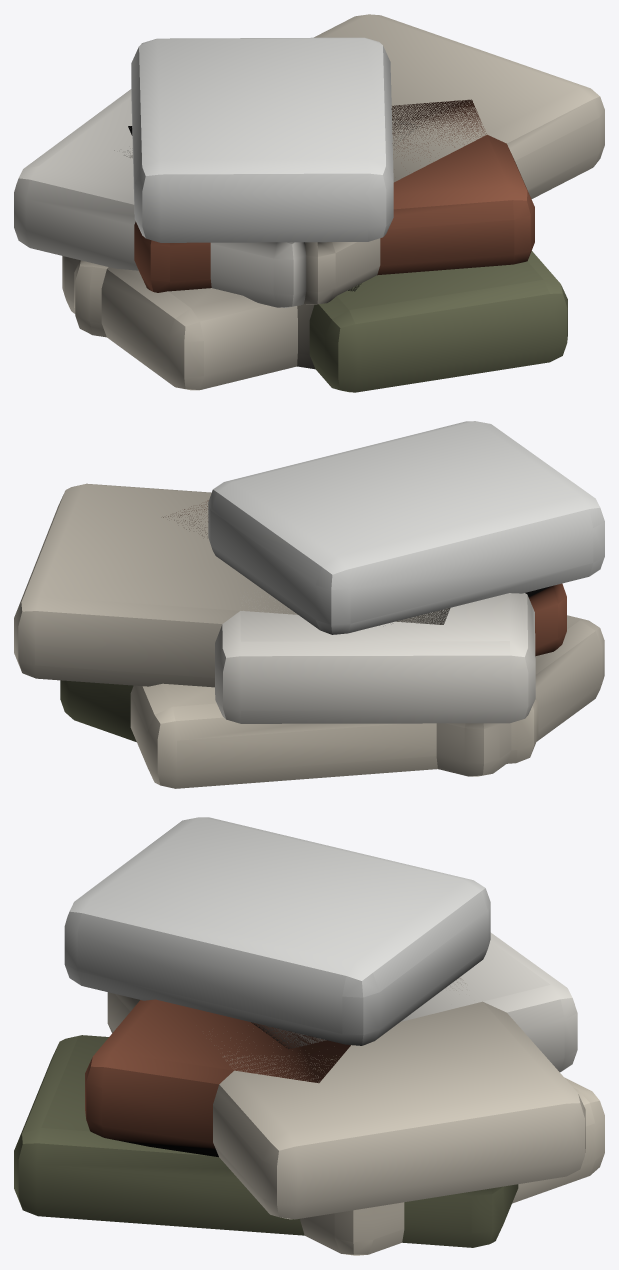
Rendered from laundry_pile.glb.
The picture shows the model from 3 angles, top to bottom: view 1: azimuth 30°, elevation 25°; view 2: azimuth 150°, elevation 25°; view 3: azimuth 270°, elevation 25°; orthographic projection. The views are drawn at different scales.
Parts seen in each view (by area): view 1: laundry_pile; view 2: laundry_pile; view 3: laundry_pile.
Part boxes in pixels (<box>): laundry_pile: <box>14,14,604,392</box>; laundry_pile: <box>14,421,604,788</box>; laundry_pile: <box>14,817,604,1255</box>.
Bounding box in the file's own units: 0.4709 × 0.19 × 0.4282.
